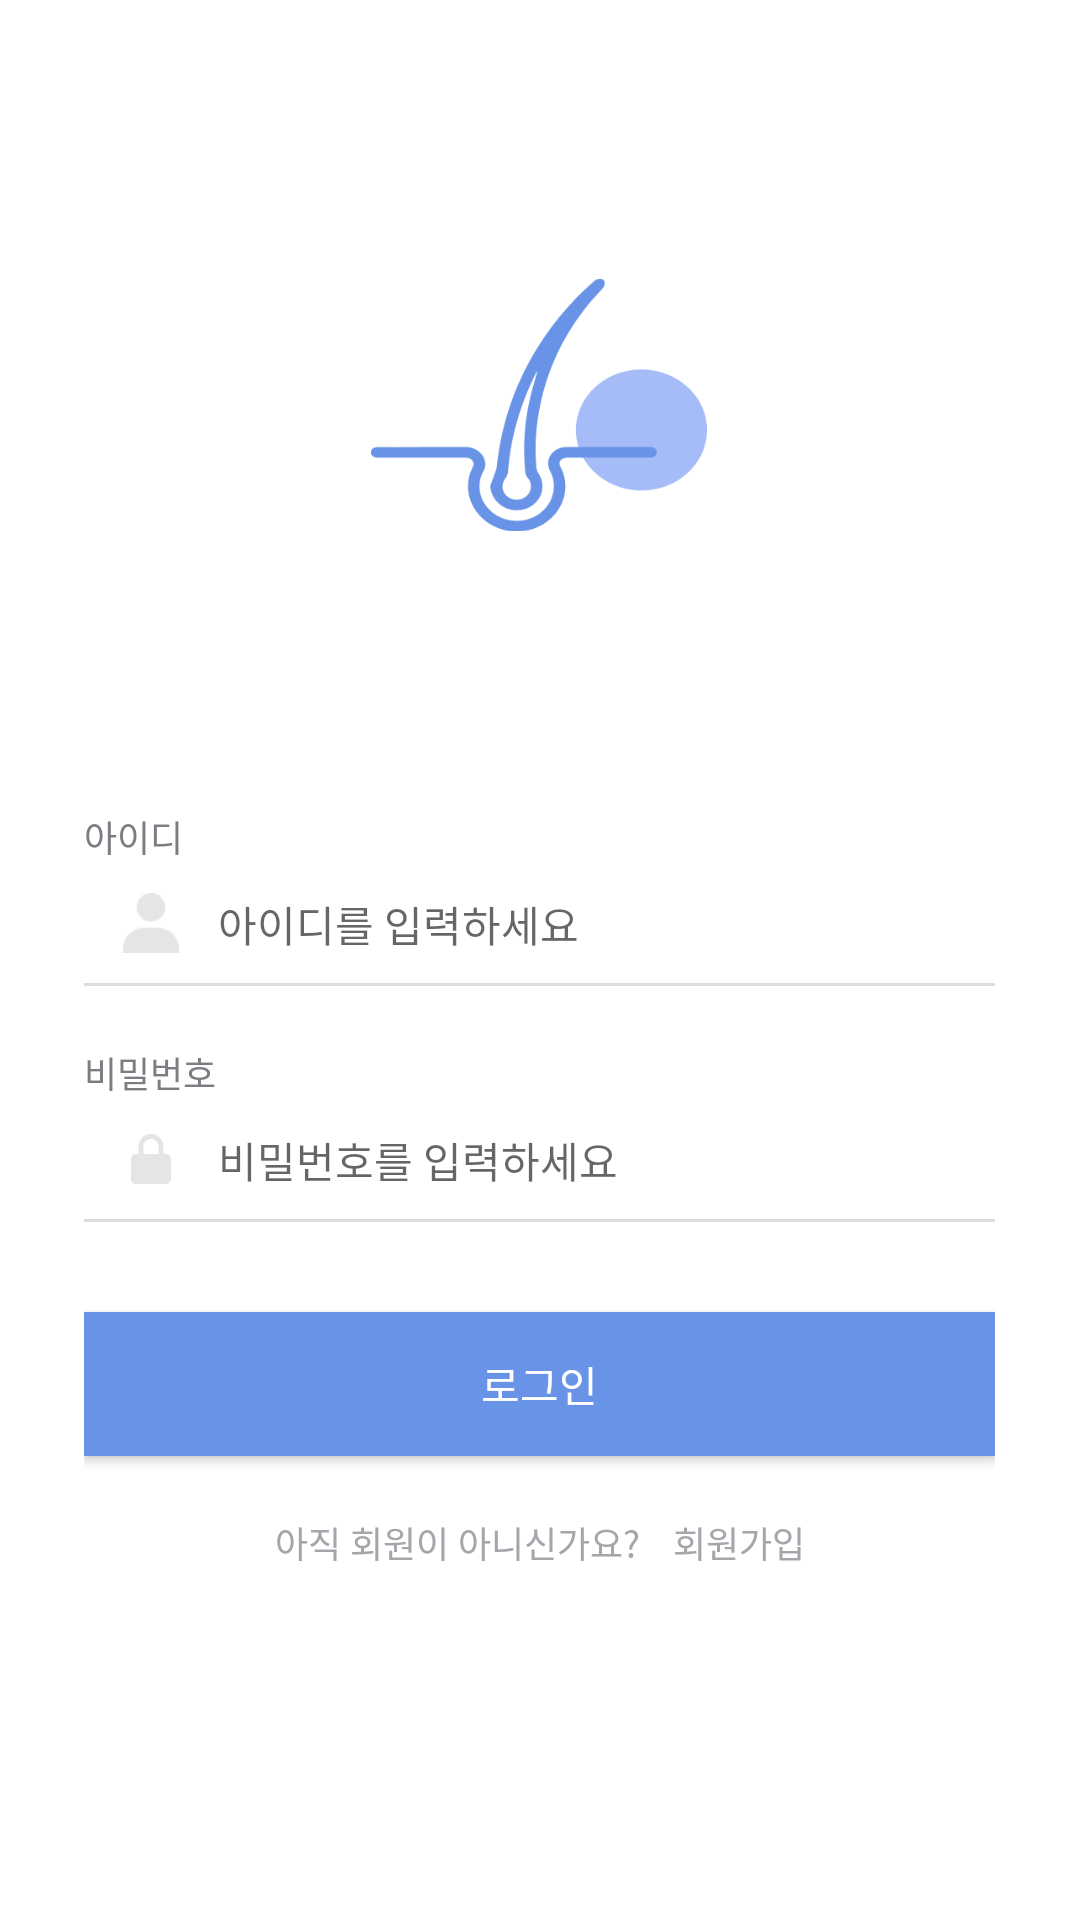

Screen size 1080 × 1920. Icon name, then its center in pixels as point (x, y):
password: point (151, 1159)
